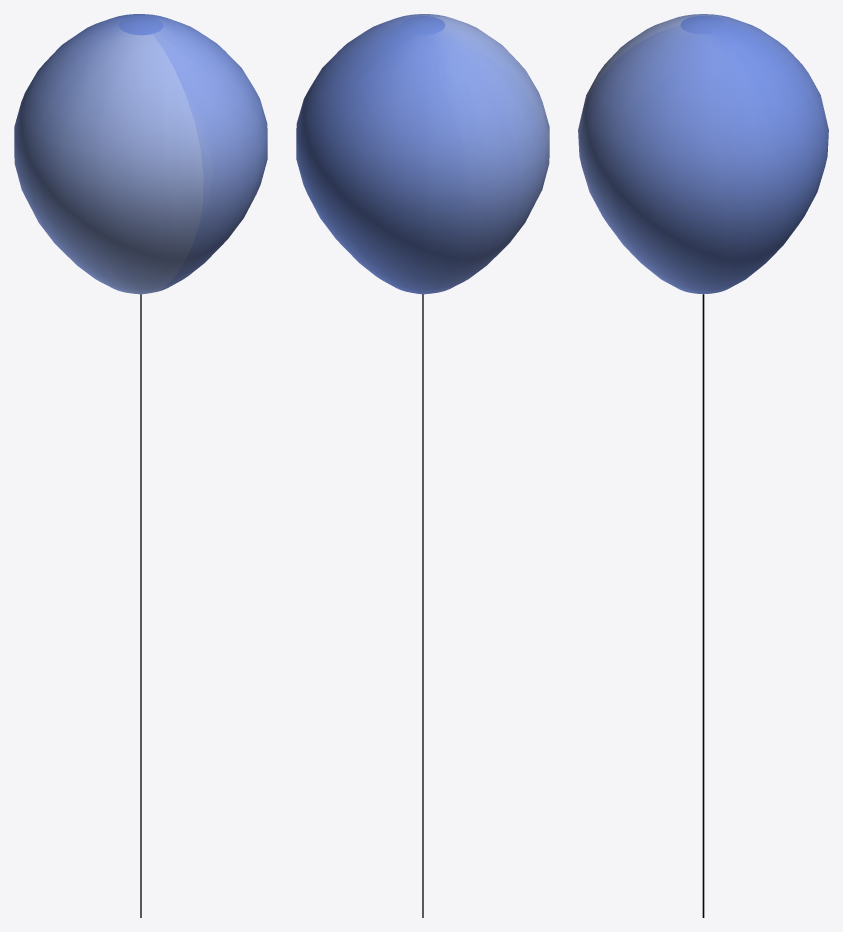
The picture shows the model from 3 angles, left to right: view 1: azimuth 30°, elevation 25°; view 2: azimuth 150°, elevation 25°; view 3: azimuth 270°, elevation 25°; orthographic projection.
Parts seen in each view (by area): view 1: Sphere001, Cylinder001; view 2: Sphere001, Cylinder001; view 3: Sphere001, Cylinder001.
Boxes of the visible parts, x1,y1,x2,y2 form: Sphere001: (14,14,267,294); Cylinder001: (140,294,141,917); Sphere001: (296,14,549,294); Cylinder001: (422,294,423,917); Sphere001: (578,14,828,294); Cylinder001: (702,294,704,917).
Size of the model in its own units: 10.21 by 39.36 by 10.
1 material, 1 textured.
